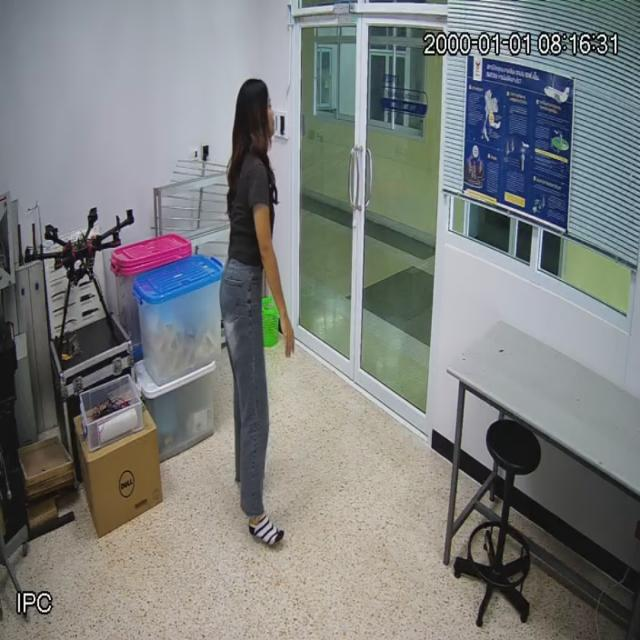normal: (212, 77, 294, 557)
